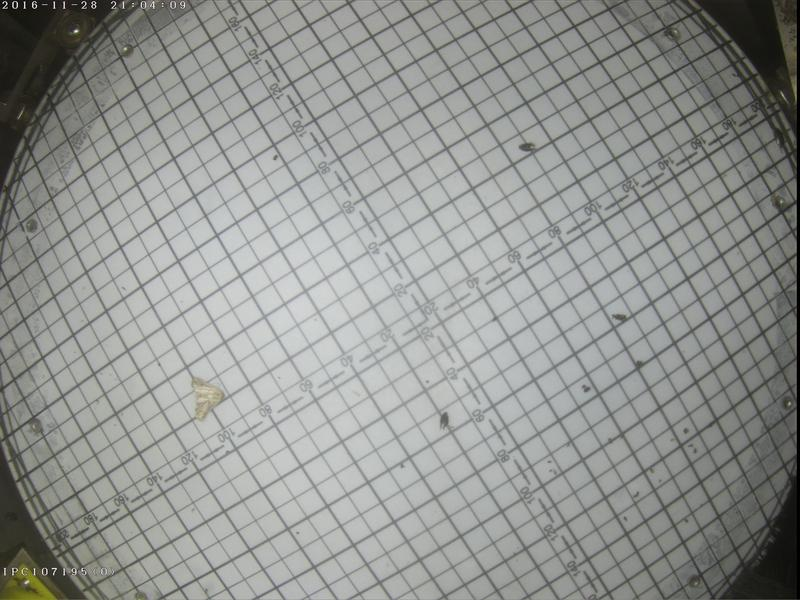Stem borer: (186, 374, 224, 416)
